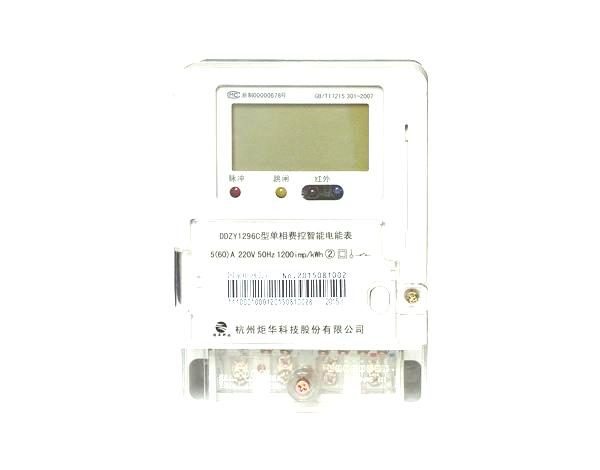digital: (183, 61, 423, 346)
